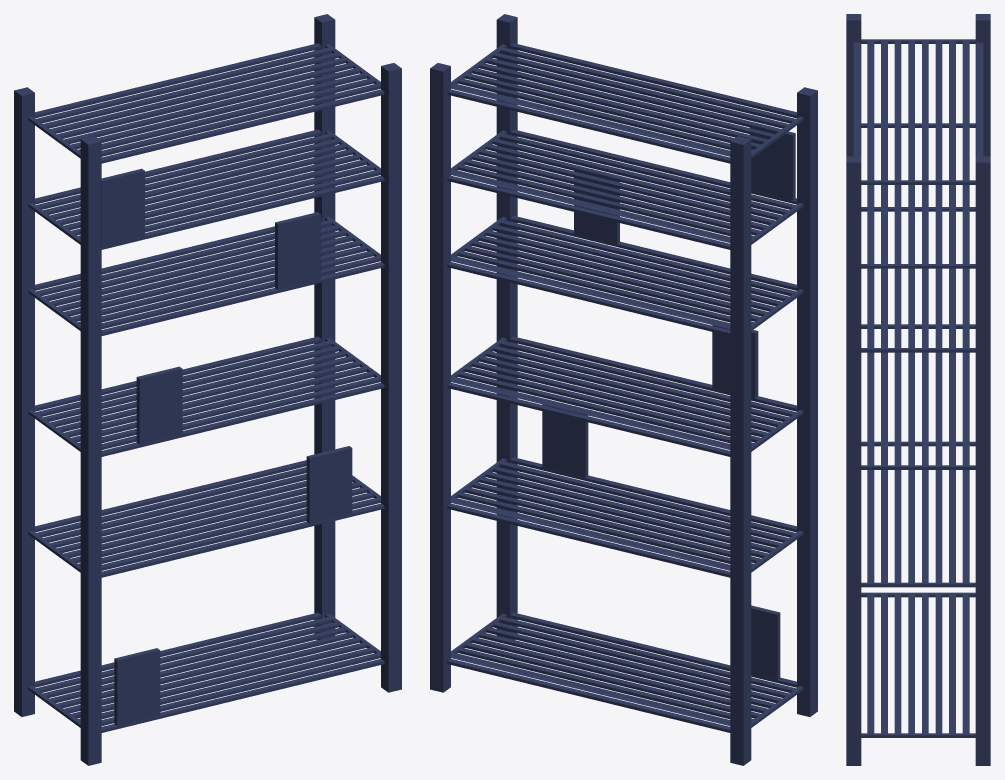
3 renders of one model, left to right at view 1: azimuth 30°, elevation 25°; view 2: azimuth 150°, elevation 25°; view 3: azimuth 270°, elevation 25°, orthographic. The views are drawn at different scales.
Parts seen in each view (by area): view 1: rack; view 2: rack; view 3: rack.
Part boxes in pixels (box(x1,y1,x2,y2)): rack: box(14, 14, 401, 765); rack: box(430, 14, 817, 765); rack: box(846, 14, 990, 765).
Size of the model in its own units: 0.9504 by 0.3904 by 1.8.
